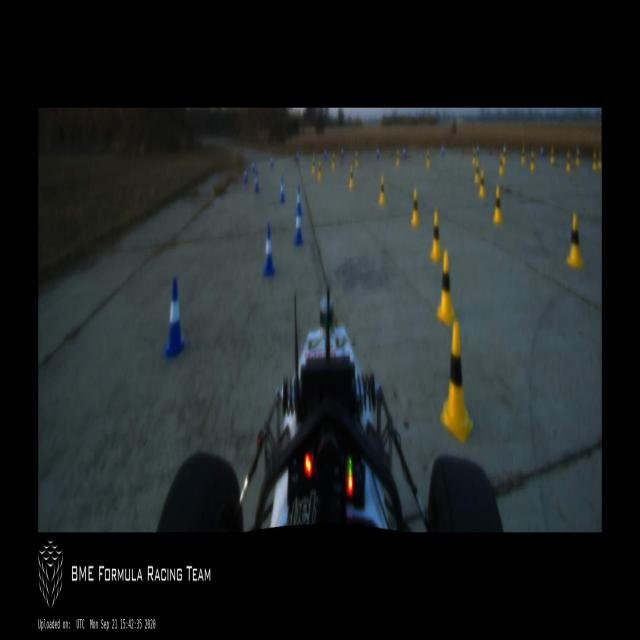blue_cone: (162, 277, 186, 358), (263, 224, 274, 276), (294, 207, 302, 246), (297, 186, 302, 216), (280, 178, 285, 202), (254, 173, 258, 192), (504, 142, 508, 156), (244, 165, 247, 183), (540, 145, 544, 157), (252, 159, 255, 173), (296, 150, 299, 162), (324, 148, 327, 160), (341, 146, 344, 158), (476, 145, 479, 156), (377, 146, 379, 159), (403, 146, 405, 159), (442, 145, 444, 157), (271, 156, 273, 167)
yellow_cone: (440, 320, 473, 445), (436, 250, 458, 326), (566, 212, 583, 268), (430, 210, 441, 262), (492, 184, 502, 224), (411, 188, 419, 227), (478, 169, 486, 198), (379, 176, 385, 204), (475, 161, 480, 184), (349, 166, 354, 188), (530, 150, 535, 172), (566, 150, 571, 172), (592, 151, 597, 171), (550, 146, 555, 166), (499, 157, 504, 176), (597, 151, 602, 170), (575, 148, 580, 167), (521, 146, 525, 166), (318, 162, 322, 180), (396, 151, 400, 167), (502, 148, 506, 164), (472, 148, 476, 164), (312, 157, 315, 175), (427, 150, 430, 168), (332, 154, 335, 170), (355, 152, 358, 168)
